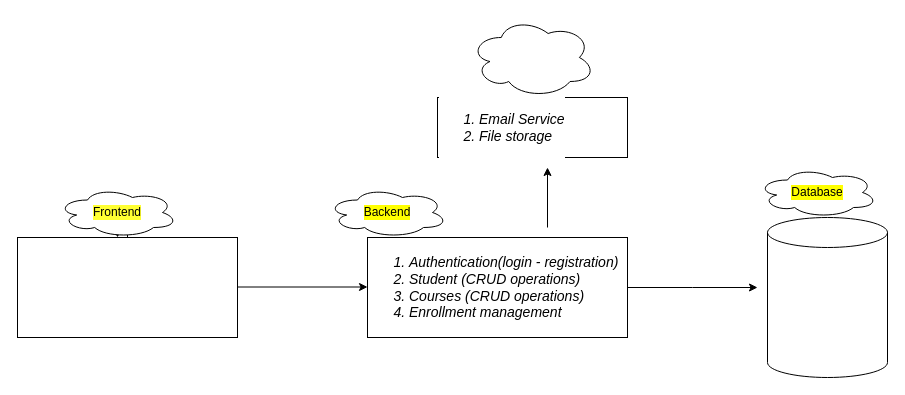
This 905x395 diagram has some shape labels left out. Each missing label, with the centre of its shape:
External serveces: pixel 532 57
Login registeration Dashboard student Managment courses Managment enrollment: pixel 127 287
Users Students Courses Enrollments: pixel 827 297
